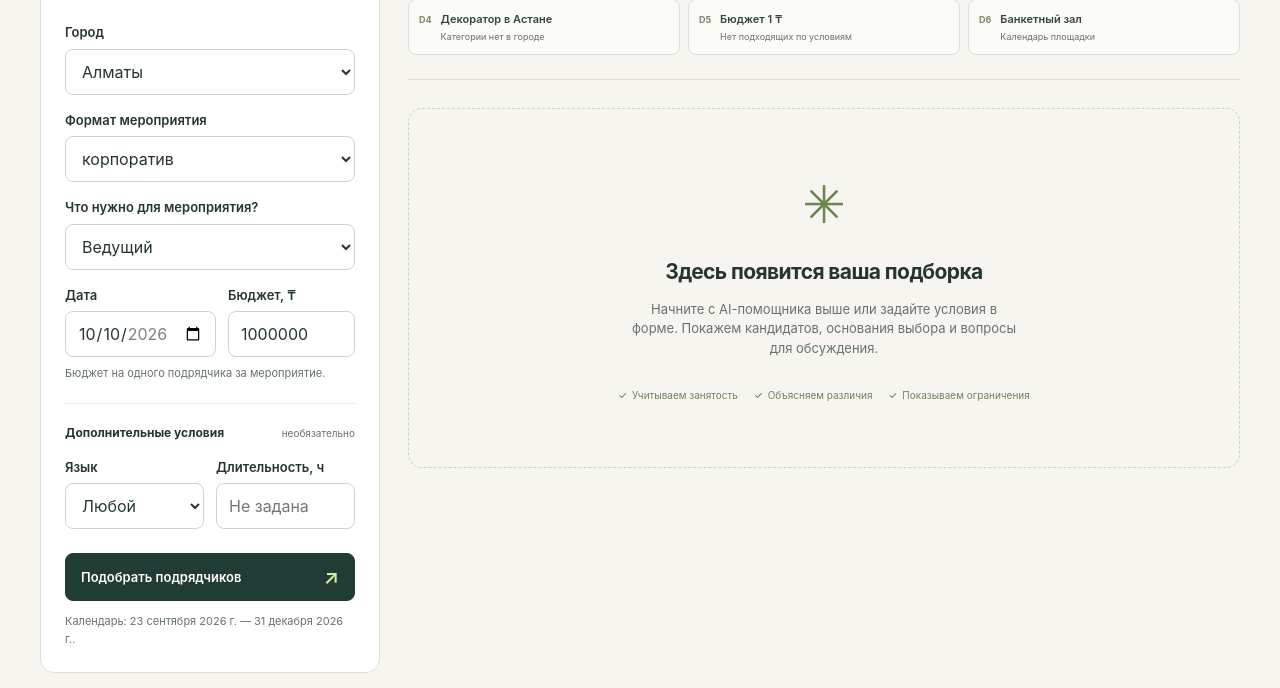
it: Firebird UI contract › validates Дата=2027-01-01 without requesting recommendations
(page scrolled)
Expected: the button "Подобрать подрядчиков ↗" is enabled, [65, 553, 355, 601]
Type "2027-01-01" into the date field labelled "Дата". click: (140, 334)
box: [65, 311, 216, 357]
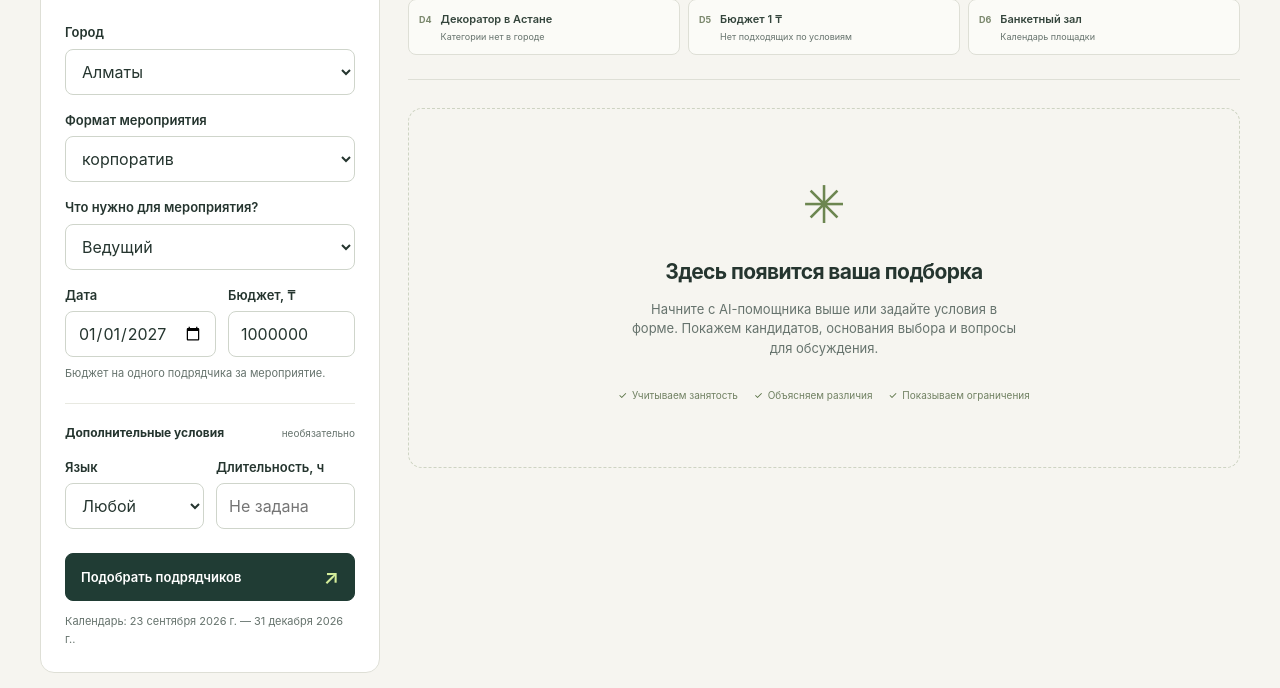
Click the button "Подобрать подрядчиков ↗". click: click(210, 577)
box: [65, 553, 355, 601]
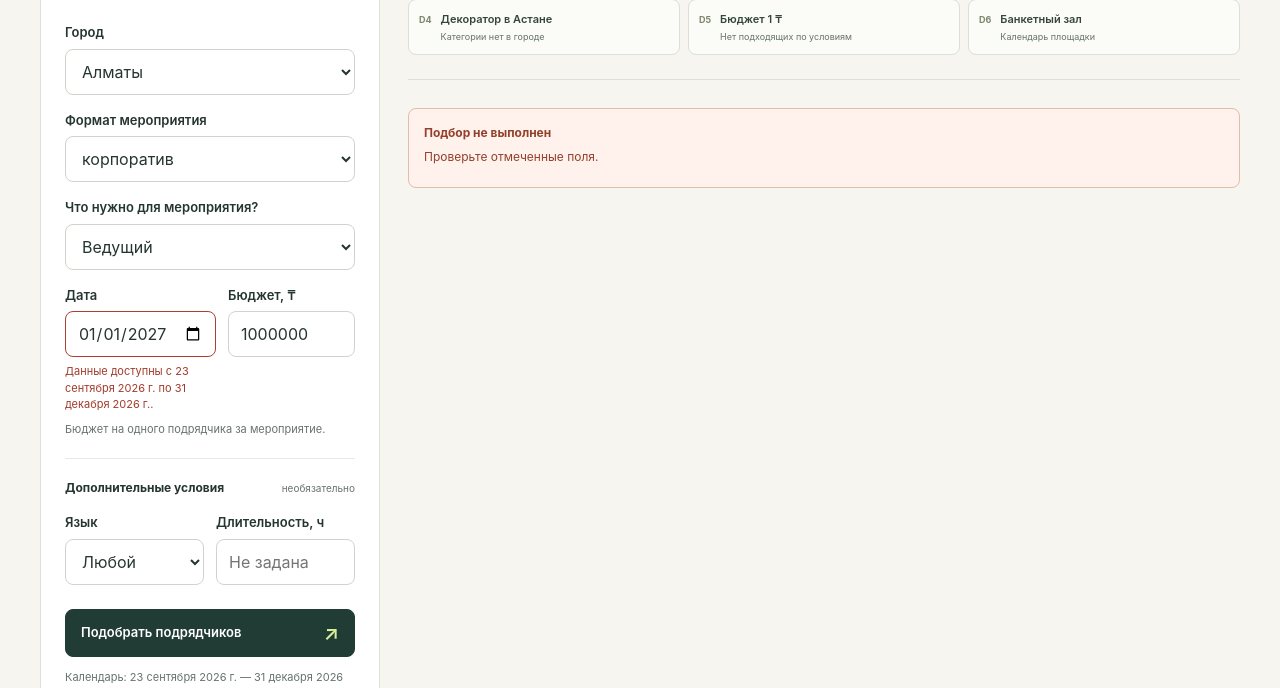
Expected: the message "Подбор не выполнен Проверьте отмеченные поля." is shown, [408, 108, 1240, 188]
